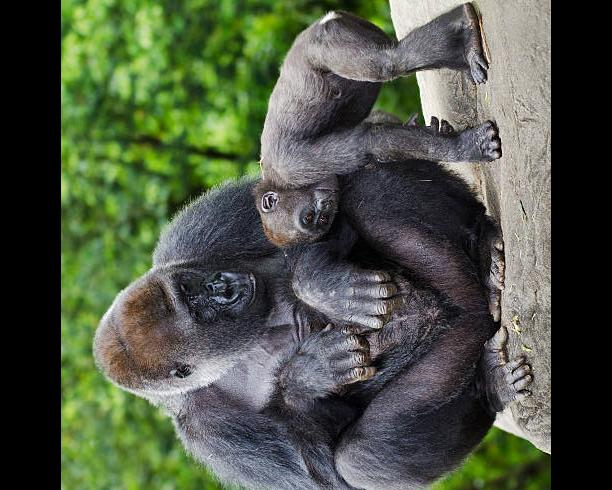gorille_Autres: (62, 157, 506, 490), (228, 0, 499, 240)
